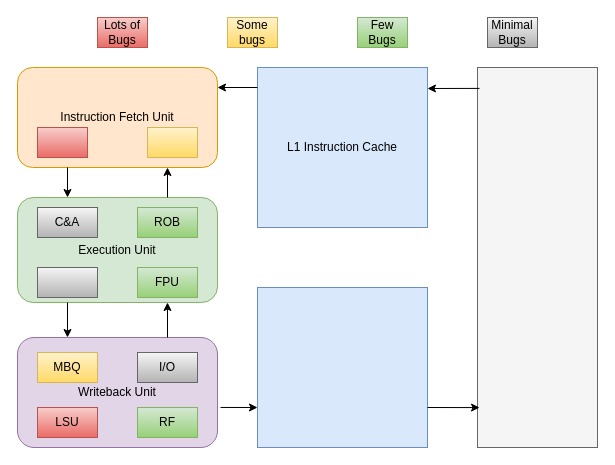
This 615x465 diagram has some shape labels left out. The centre of each missing label's shape, as x and y in pixels:
"ALU" belongs at (x=67, y=282).
"BPU" belongs at (x=62, y=142).
"L1 Data Cache" belongs at (x=342, y=367).
"L2 CPU Caches" belongs at (x=537, y=257).
"MMU" belongs at (x=172, y=142).
